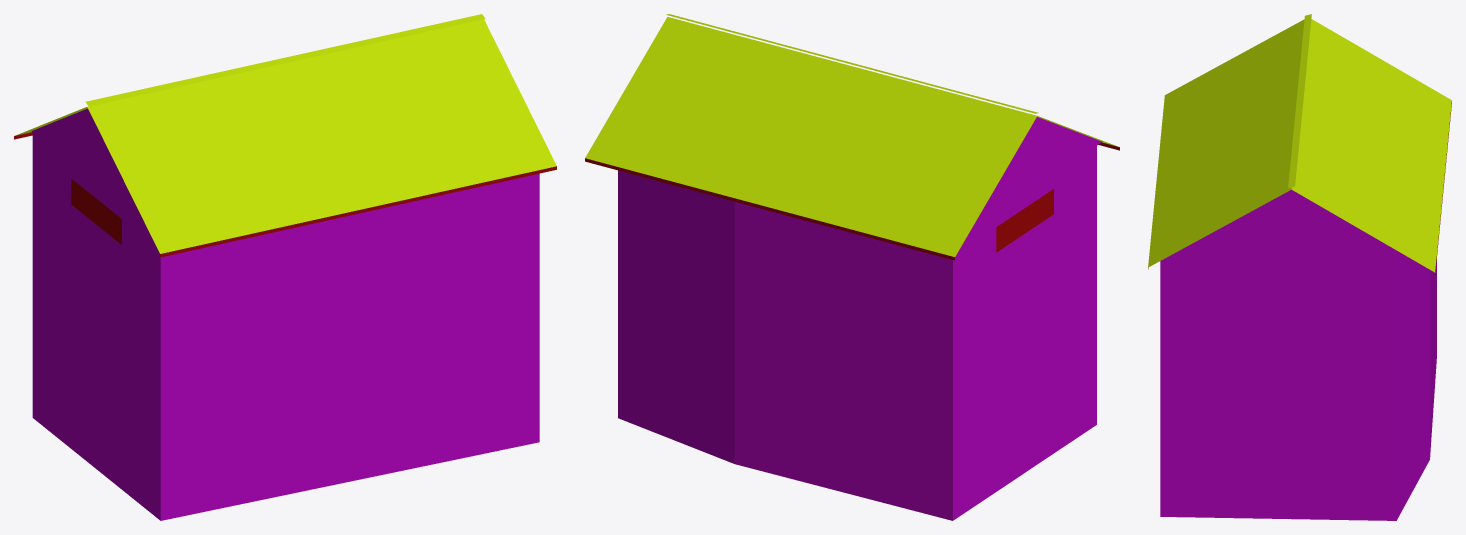
The model's file is bgj_257.glb.
3 renders of one model, left to right at view 1: azimuth 30°, elevation 25°; view 2: azimuth 150°, elevation 25°; view 3: azimuth 270°, elevation 25°, orthographic. The views are drawn at different scales.
Parts seen in each view (by area): view 1: bgj_257; view 2: bgj_257; view 3: bgj_257.
Part boxes in pixels (x1,y1,x2,y2): bgj_257: [14, 14, 556, 520]; bgj_257: [585, 14, 1119, 520]; bgj_257: [1148, 14, 1451, 520].
Bounding box in the file's own units: 14.39 × 12.76 × 10.41.
